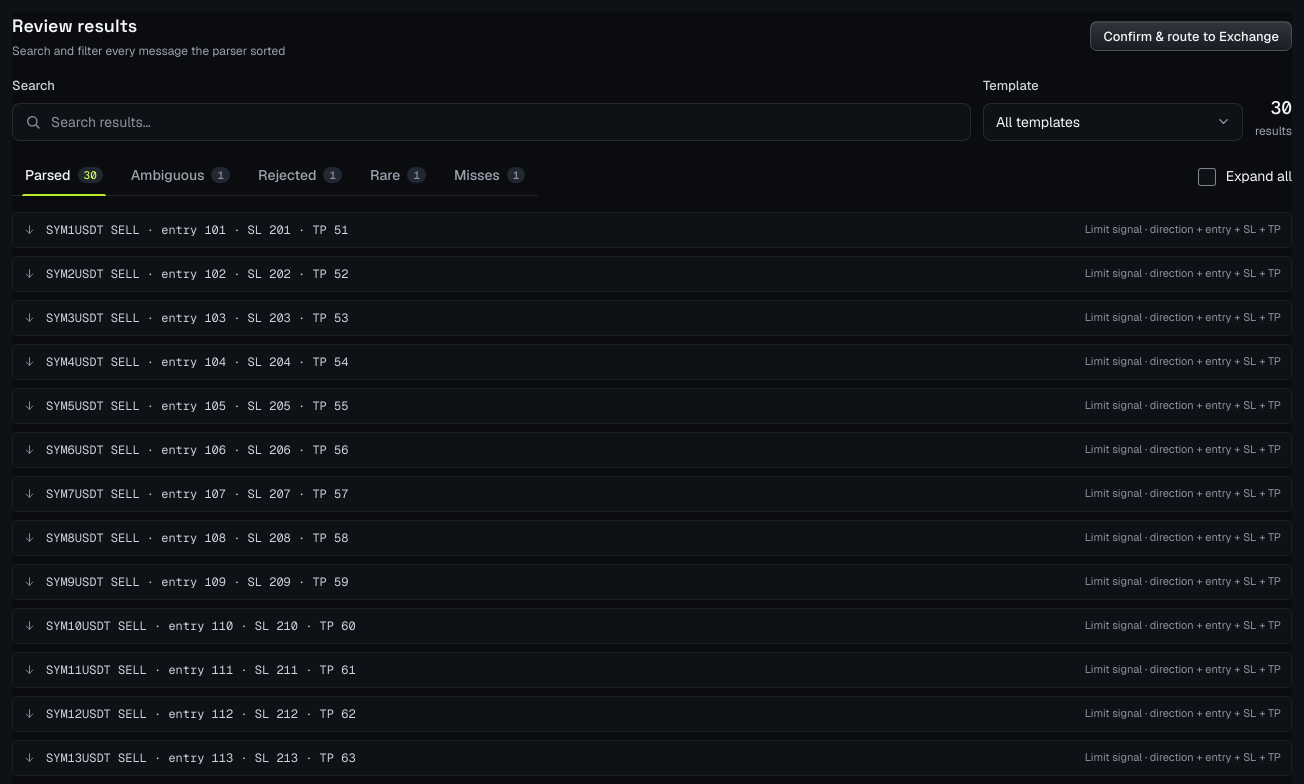
AuditReview › expands a parsed row to show the original message and parsed fields
Click the button "SYM1USDT SELL": (197, 230) [12, 212, 1292, 248]
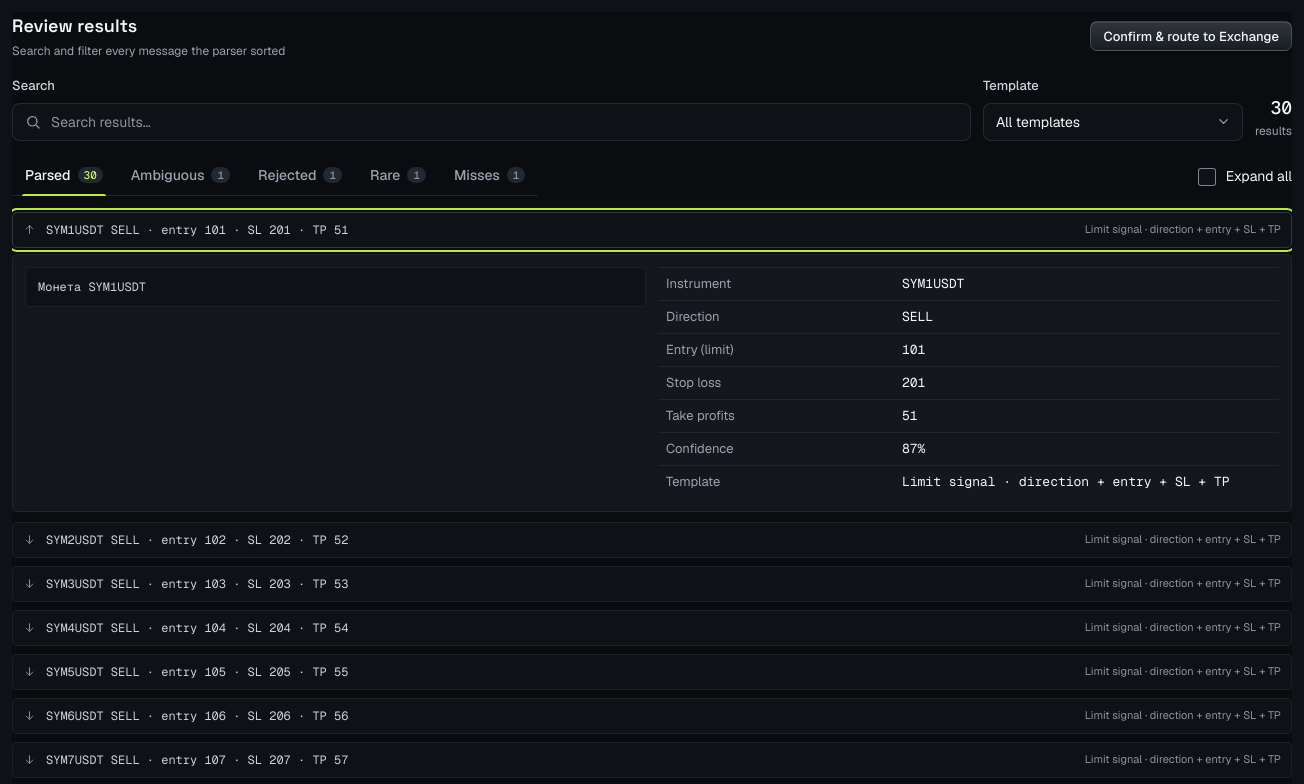
Result: the text "Монета SYM1USDT" is shown at [25, 267, 646, 307]
Result: the text "Stop loss" is shown at [658, 366, 894, 400]
